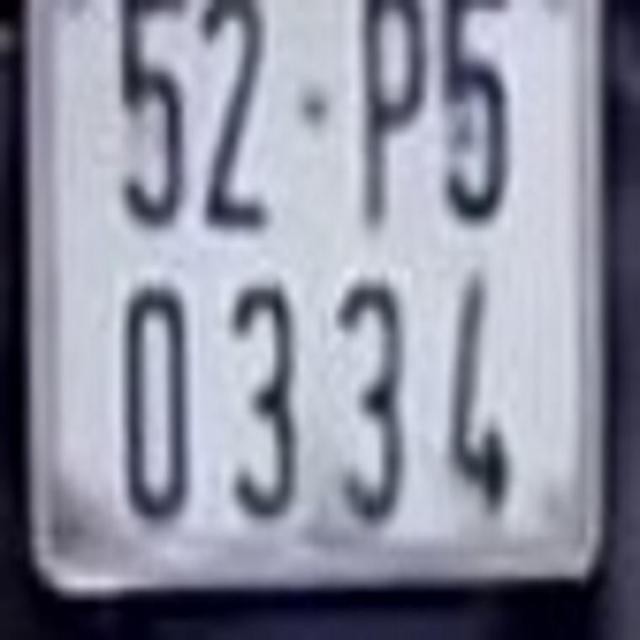0: (117, 283, 192, 520)
2: (196, 2, 275, 233)
3: (331, 272, 408, 525), (226, 279, 305, 520)
4: (436, 272, 523, 529)
5: (443, 1, 514, 225), (116, 1, 187, 224)
P: (351, 1, 437, 224)
